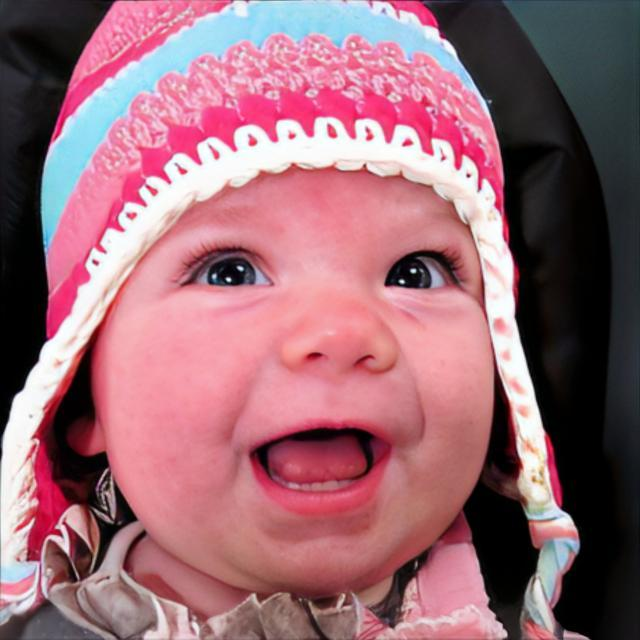fear: (89, 157, 497, 598)
